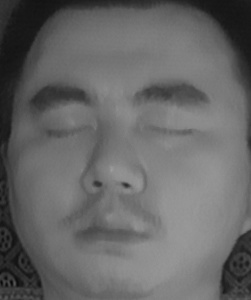blink: (143, 115, 194, 146), (46, 112, 91, 145)
mouth: (68, 199, 162, 258)
